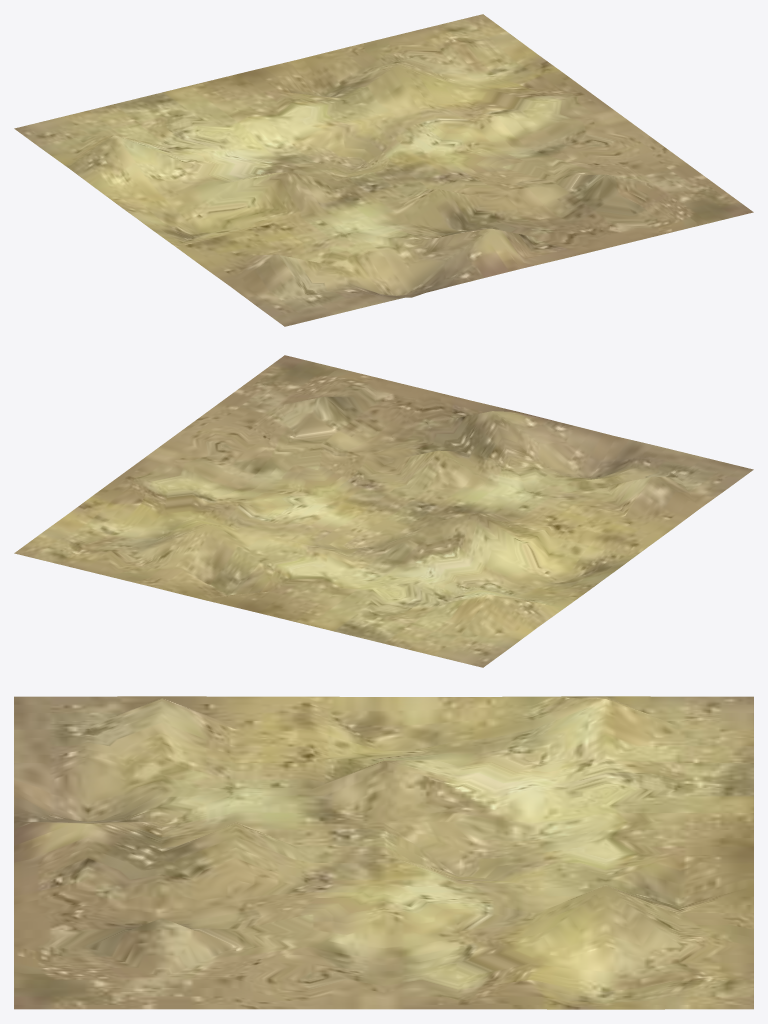
The model's file is Ground.fbx.
The picture shows the model from 3 angles, top to bottom: view 1: azimuth 30°, elevation 25°; view 2: azimuth 150°, elevation 25°; view 3: azimuth 270°, elevation 25°; orthographic projection. The views are drawn at different scales.
Parts seen in each view (by area): view 1: pPlane1; view 2: pPlane1; view 3: pPlane1.
Part boxes in pixels (bbox=[...]): pPlane1: bbox=[14, 14, 753, 326]; pPlane1: bbox=[14, 355, 753, 667]; pPlane1: bbox=[14, 696, 753, 1009].
Size of the model in its own units: 50 by 4.69 by 50.
1 material, 1 textured.
